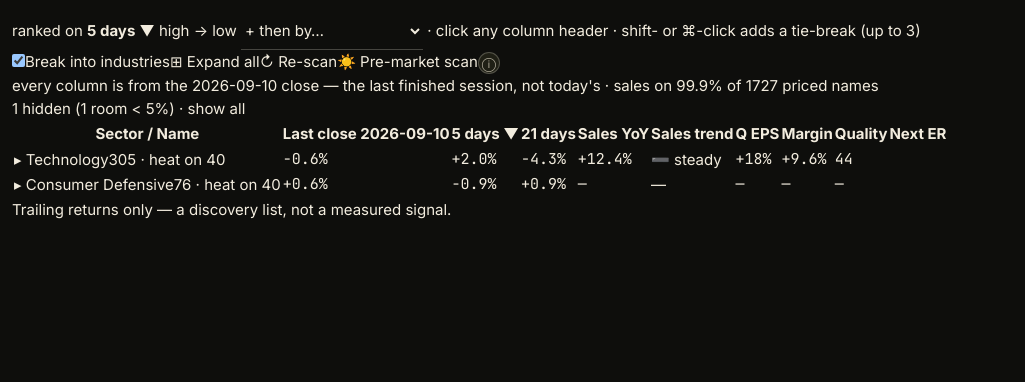
🔥 Hottest — un-hide by reason (2026-09-17) › the count line and the GROUP agree — un-hiding room draws the name again
Step 1. Click the button "▸ Consumer Defensive" → x=94, y=185, box [14, 173, 174, 196]
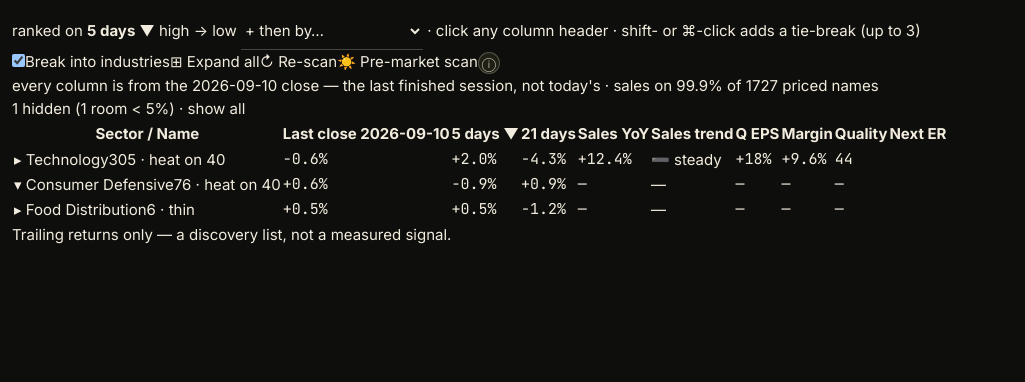
Step 2. Click the button "▸ Food Distribution" → x=80, y=210, box [14, 198, 147, 222]
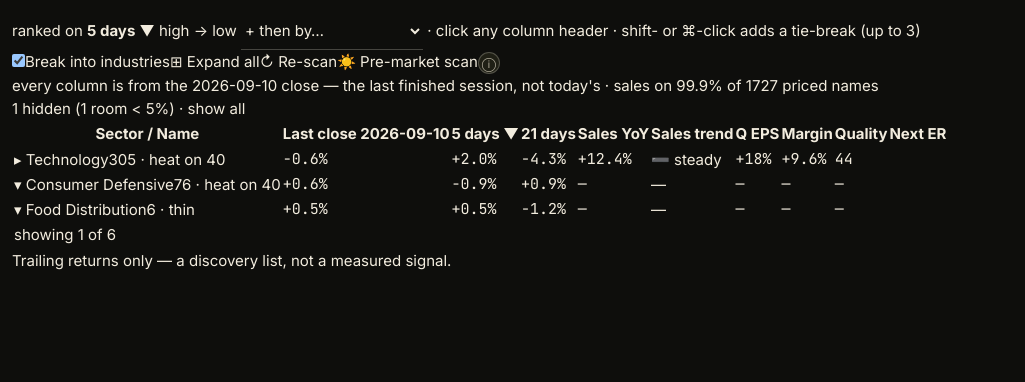
expect the text "ANDE" is not shown: met
Step 3. Click the button "1 room < 5%" → x=125, y=109, box [80, 97, 169, 120]
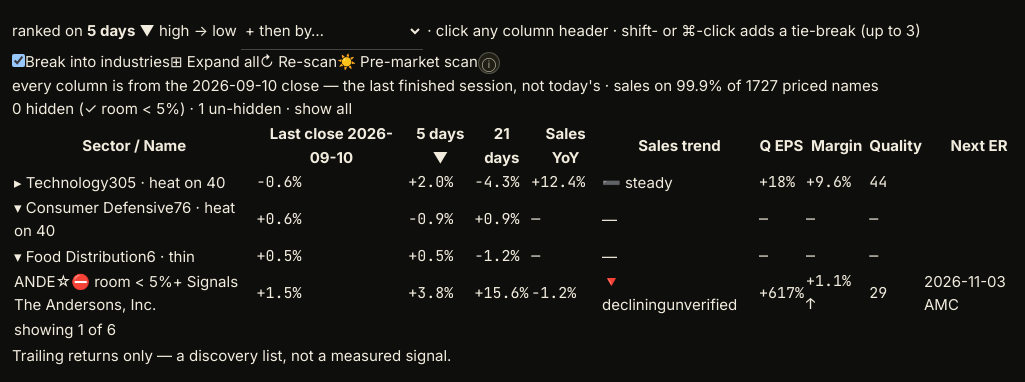
expect the link "ANDE" is shown: met, box [14, 272, 56, 291]
expect the text "0 hidden ( ✓ room < 5% ) · 1 un-hidden · show all" is shown: met, box [12, 97, 352, 120]
